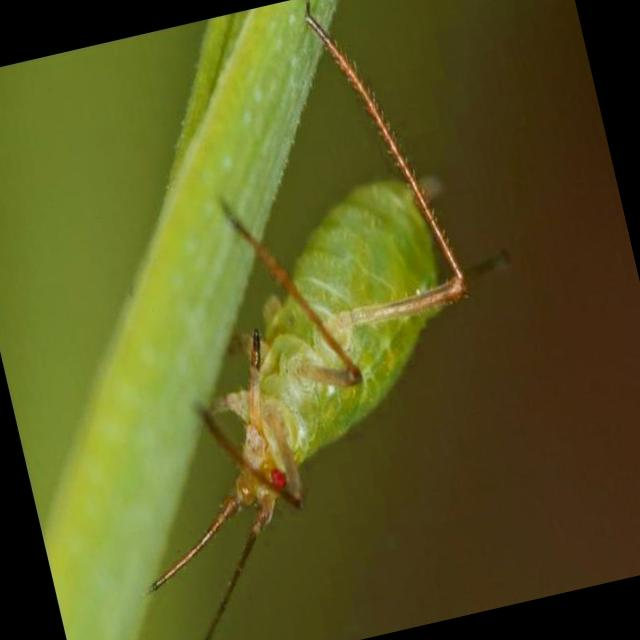aphid: (24, 0, 594, 640)
